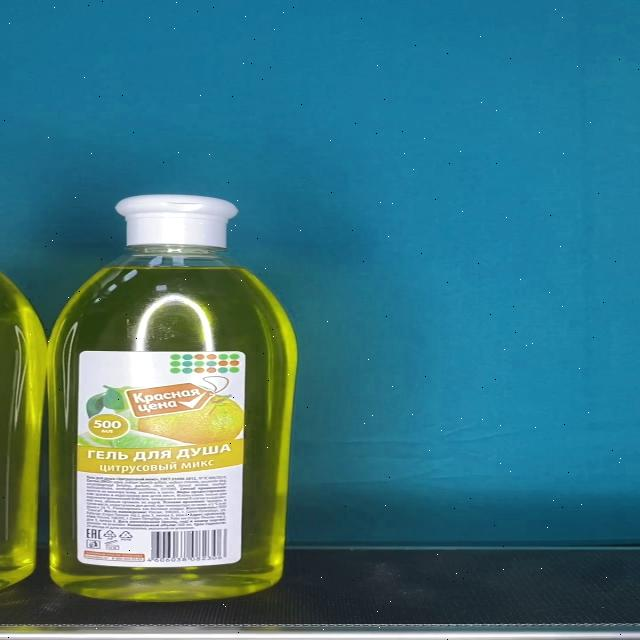Bottle: (49, 194, 297, 599)
Cap: (114, 195, 237, 247)
